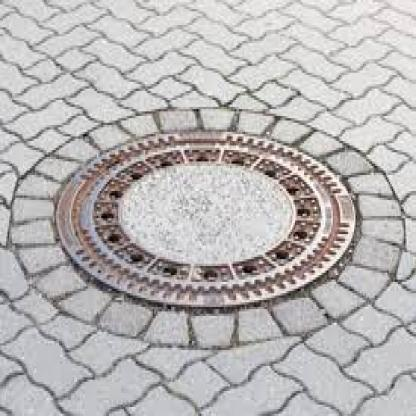closed manhole-not overflowing-: (56, 136, 362, 302)
